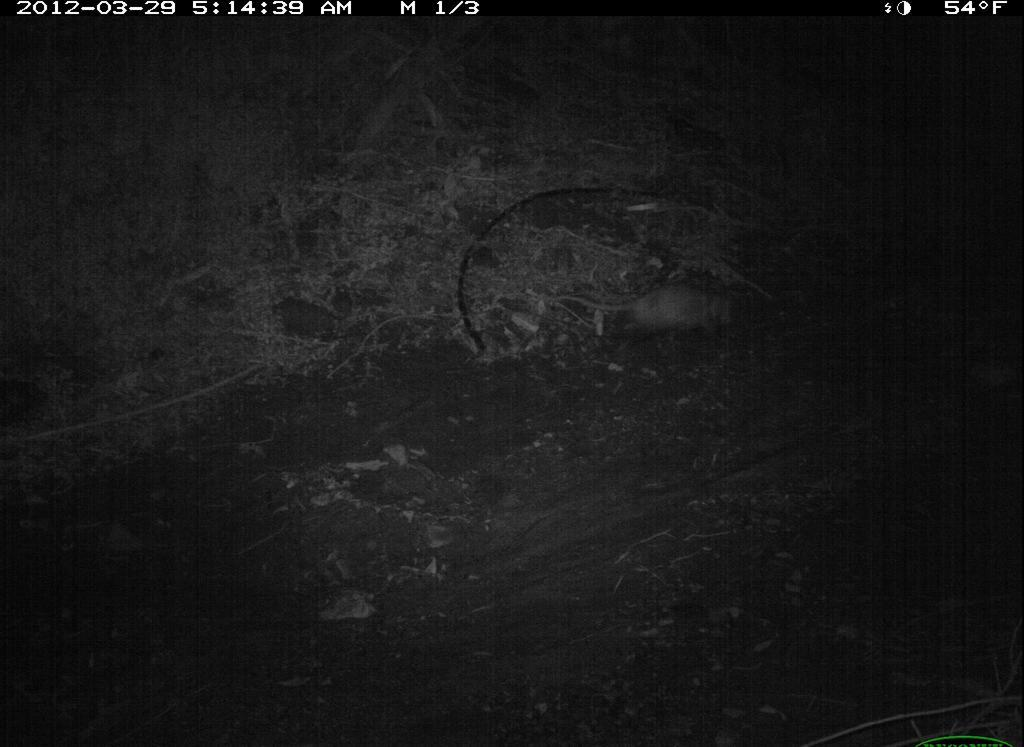opossum: (550, 267, 762, 365)
